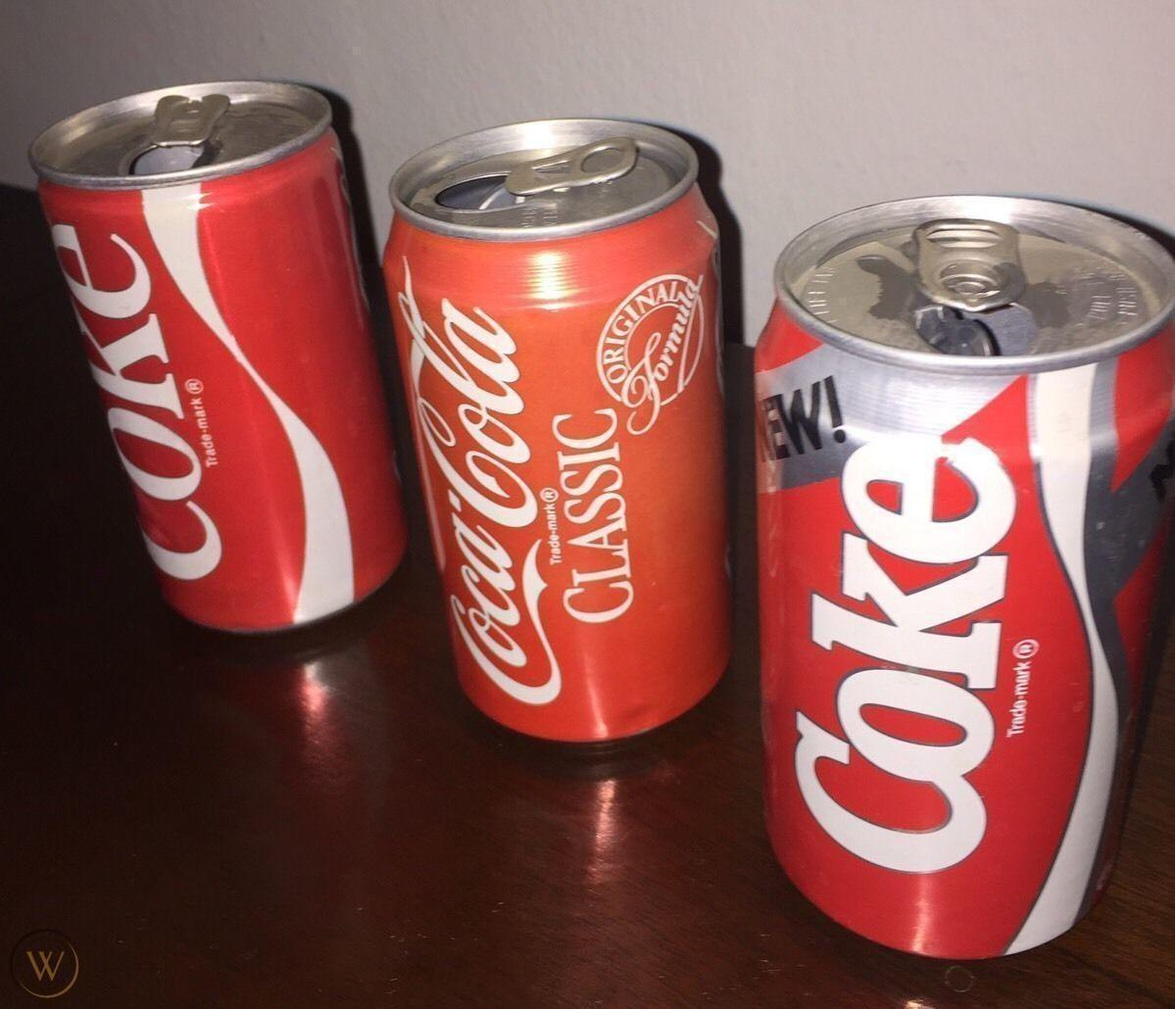tin can: (746, 187, 1174, 967), (377, 116, 737, 745), (27, 77, 409, 636)
